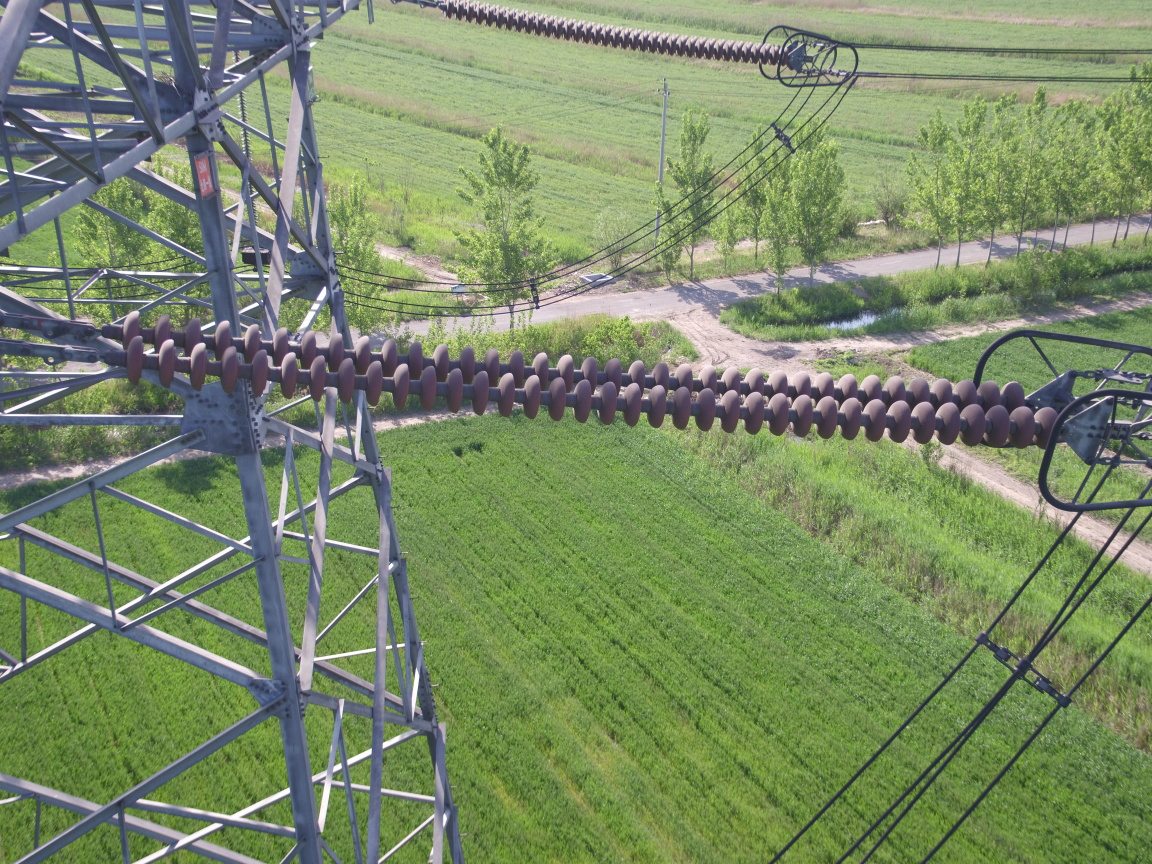insulator: (43, 306, 1079, 453), (412, 1, 798, 66)
